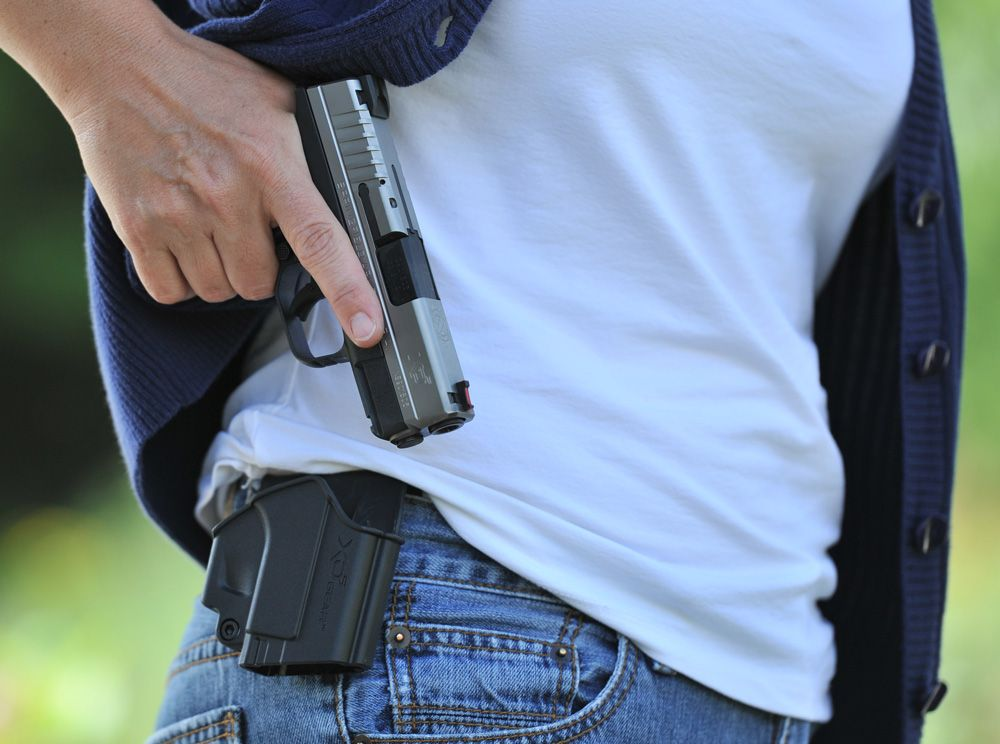gun: (231, 67, 486, 456)
